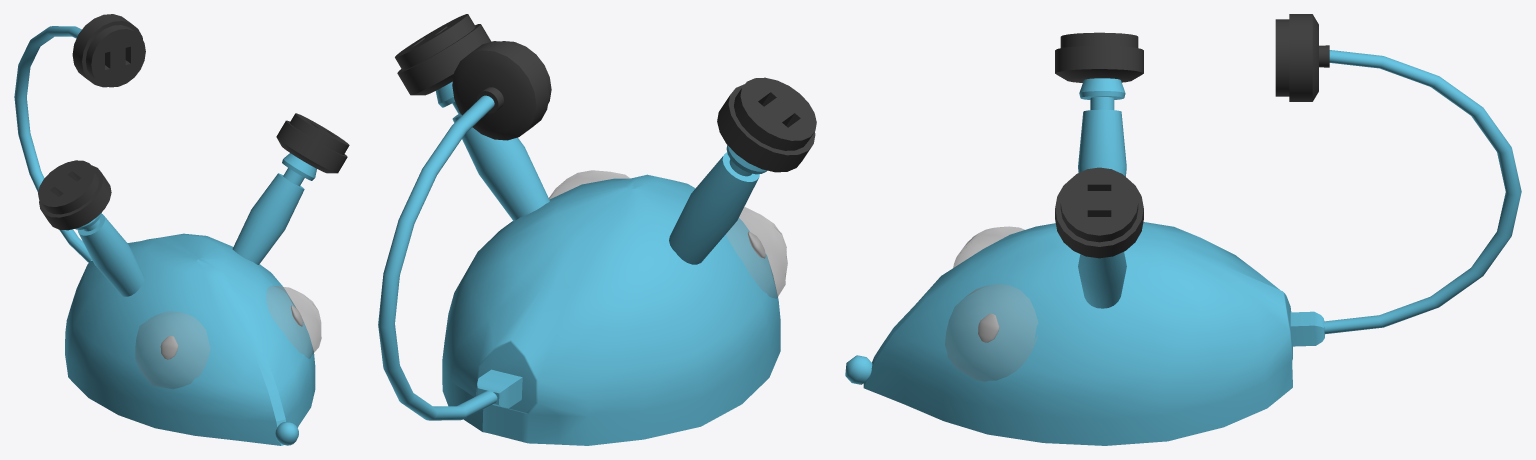
The model's file is SqueekChassis.fbx.
3 renders of one model, left to right at view 1: azimuth 30°, elevation 25°; view 2: azimuth 150°, elevation 25°; view 3: azimuth 270°, elevation 25°, orthographic. The views are drawn at different scales.
Parts seen in each view (by area): view 1: bod, plug5, eye, eye2; view 2: bod, plug5, eye, eye2; view 3: bod, plug5, eye2, eye.
Part boxes in pixels (left/top/right/bottom): bod: left=14, top=26, right=316, bottom=445; plug5: left=38, top=14, right=349, bottom=230; eye: left=135, top=311, right=210, bottom=388; eye2: left=266, top=285, right=321, bottom=358; bod: left=378, top=81, right=780, bottom=445; plug5: left=395, top=14, right=816, bottom=172; eye: left=726, top=207, right=787, bottom=298; eye2: left=549, top=170, right=629, bottom=199; bod: left=845, top=50, right=1521, bottom=445; plug5: left=1055, top=14, right=1329, bottom=258; eye2: left=945, top=284, right=1037, bottom=381; eye: left=953, top=226, right=1024, bottom=267.
Bounding box in the file's own units: 9.71 × 9.49 × 15.24.
